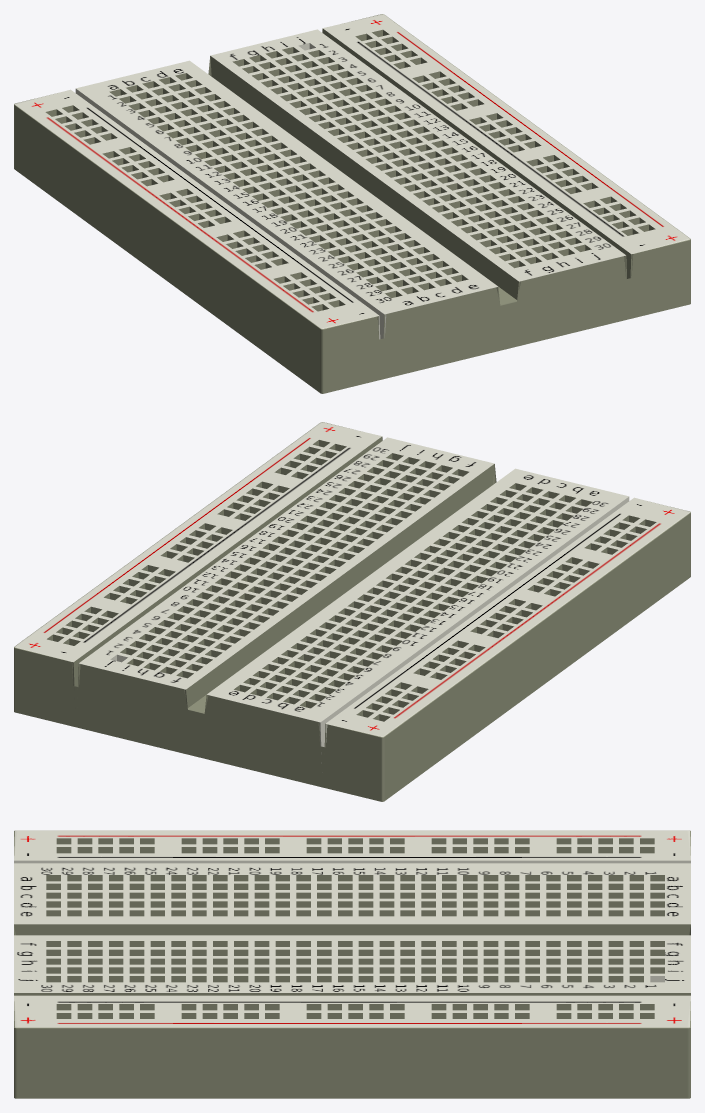
File: breadboard.glb
The picture shows the model from 3 angles, top to bottom: view 1: azimuth 30°, elevation 25°; view 2: azimuth 150°, elevation 25°; view 3: azimuth 270°, elevation 25°; orthographic projection. The views are drawn at different scales.
Visible parts, largest first — view 1: Cube; view 2: Cube; view 3: Cube.
Boxes of the visible parts, left/top/right/bottom form: Cube: left=14, top=14, right=690, bottom=393; Cube: left=14, top=422, right=690, bottom=801; Cube: left=14, top=830, right=690, bottom=1098.
Bounding box in the file's own units: 0.0572 × 0.00953 × 0.0826.
3 materials, 1 textured.
